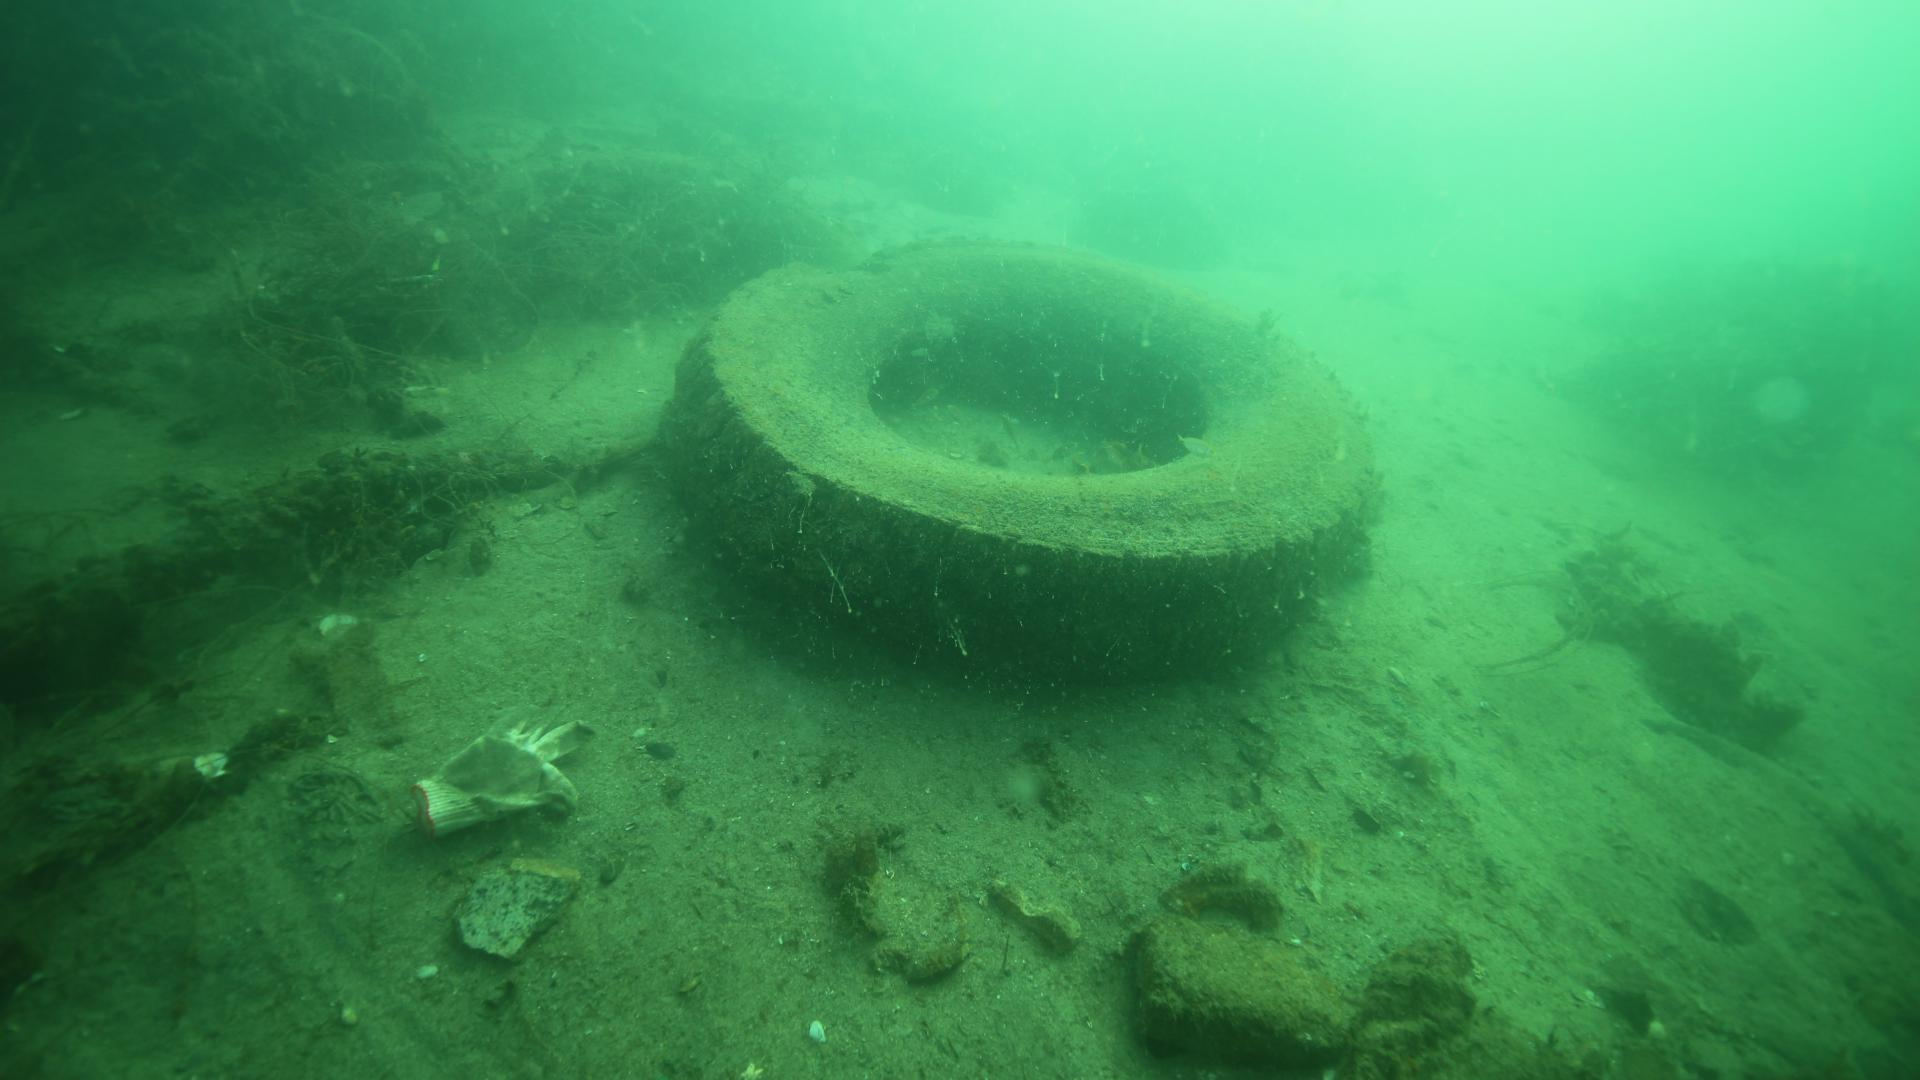tire: (670, 223, 1387, 679)
